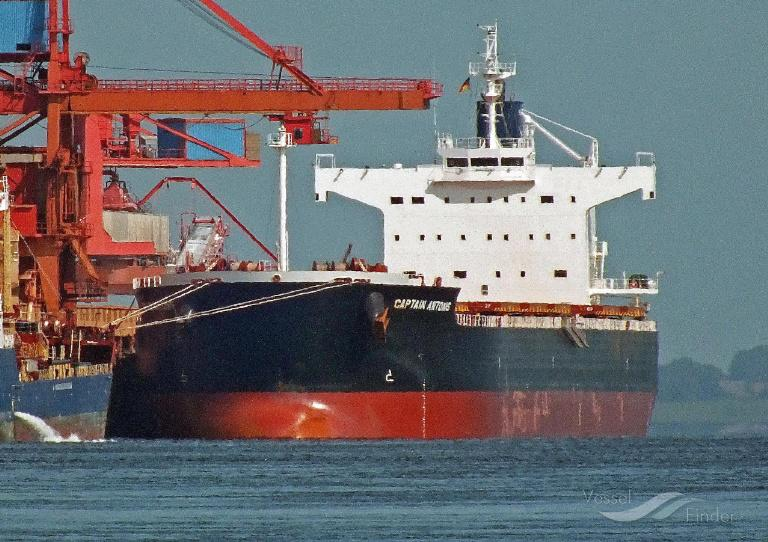OCR: (394, 290, 458, 323)
